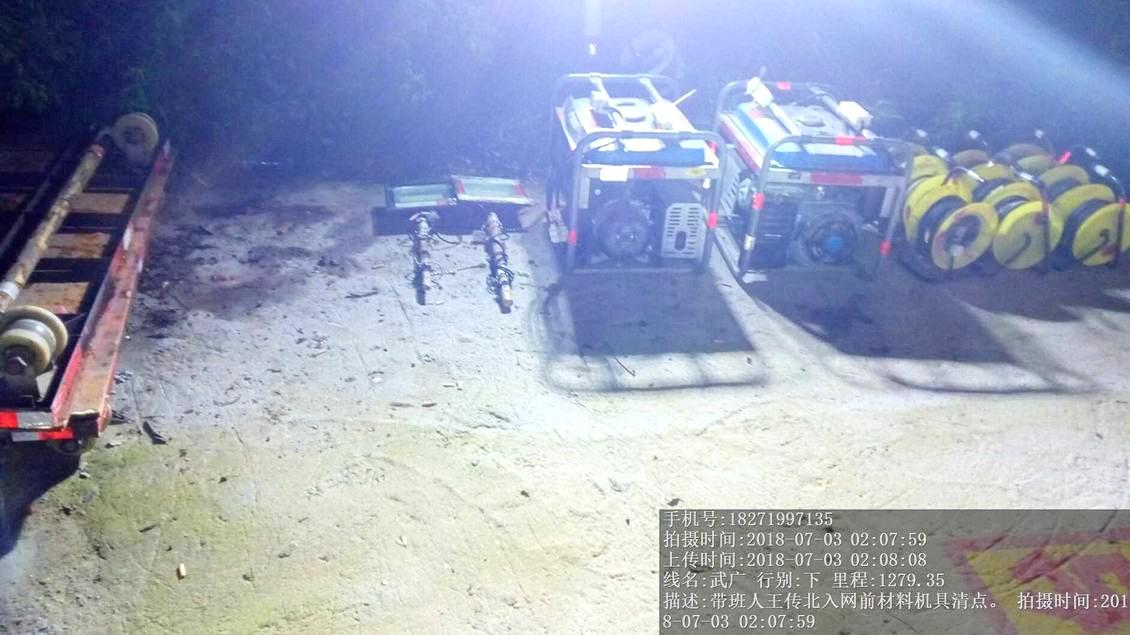DJ: (720, 69, 900, 288), (535, 63, 718, 276)
DX: (916, 174, 1004, 282)
